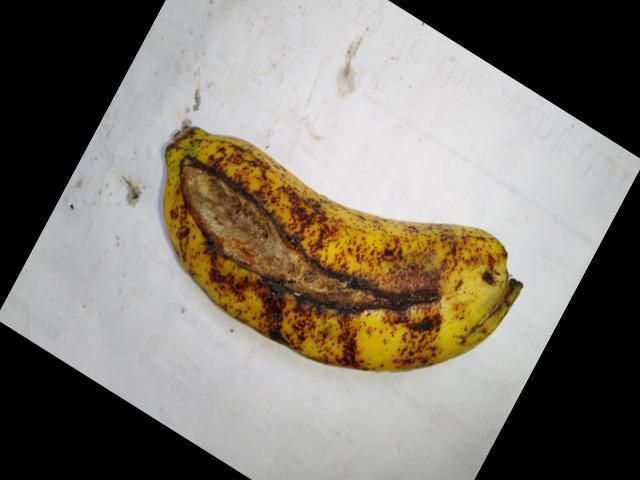rotten: (155, 149, 451, 330)
